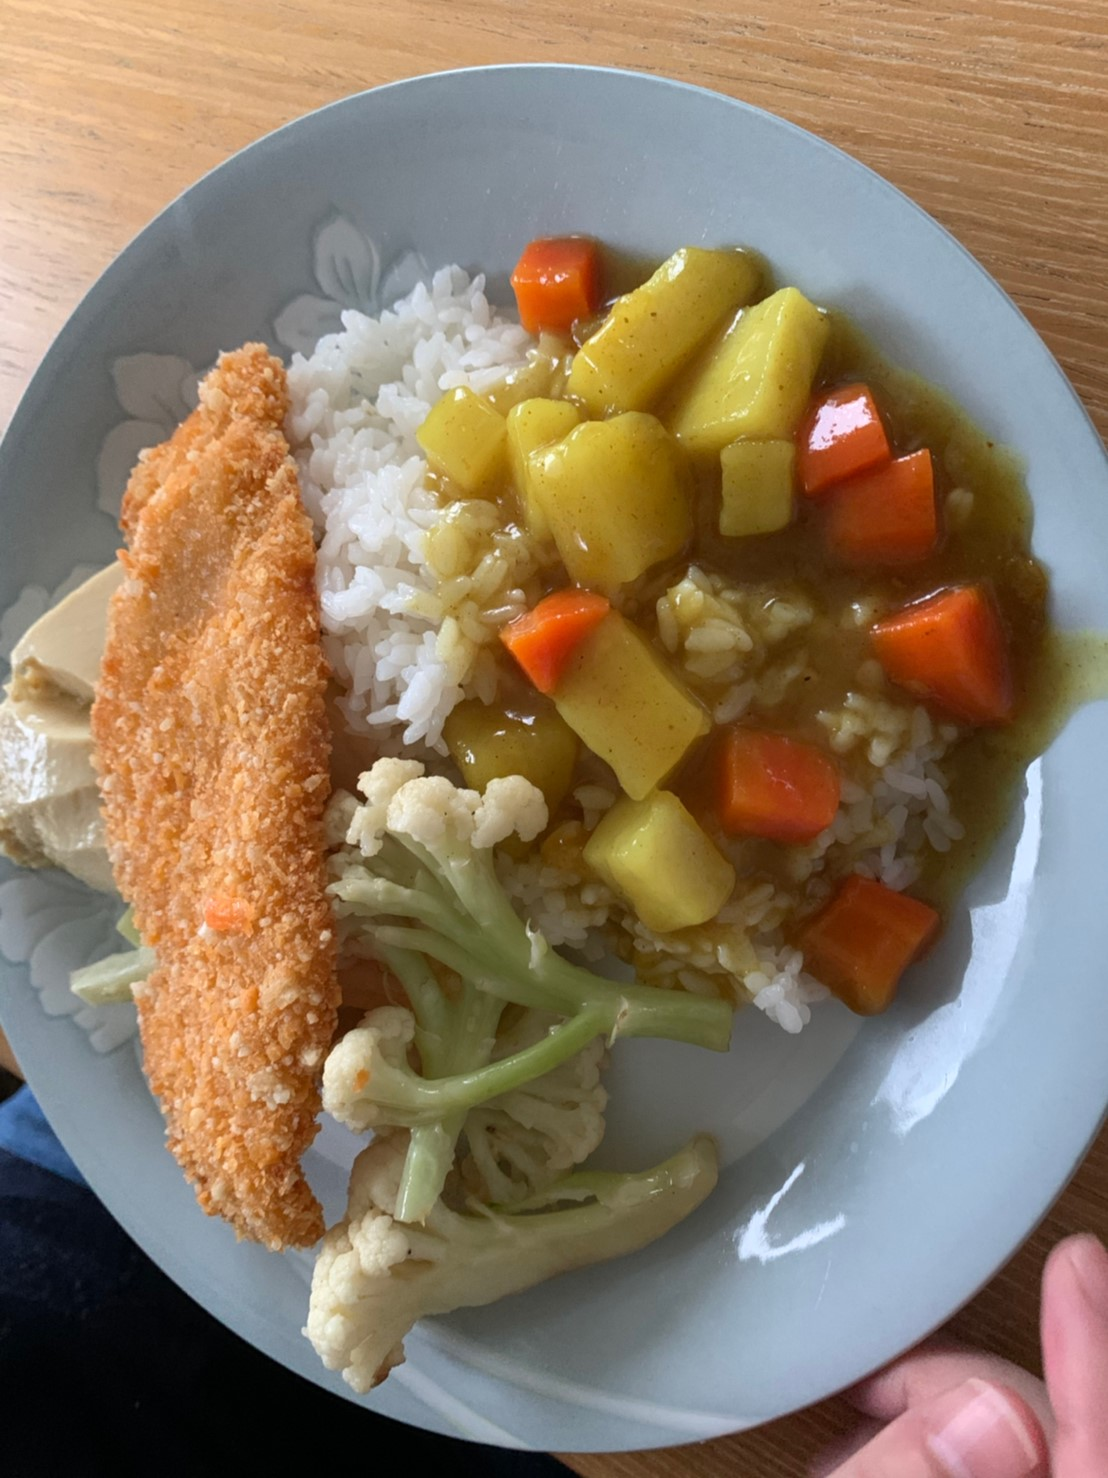curry: (422, 237, 1006, 1007)
fried_chicken: (86, 335, 335, 1258)
rice: (278, 285, 504, 745)
